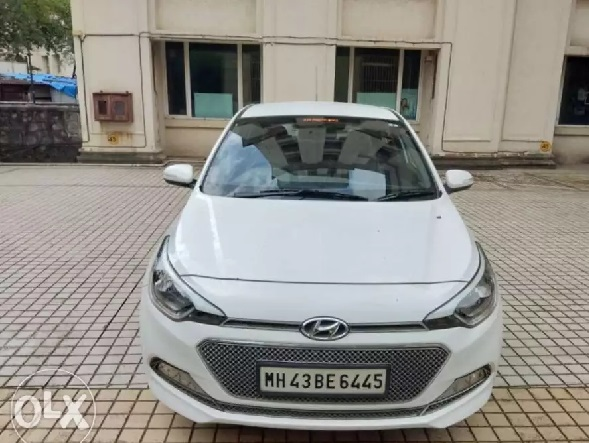licenseplate: (255, 359, 395, 398)
